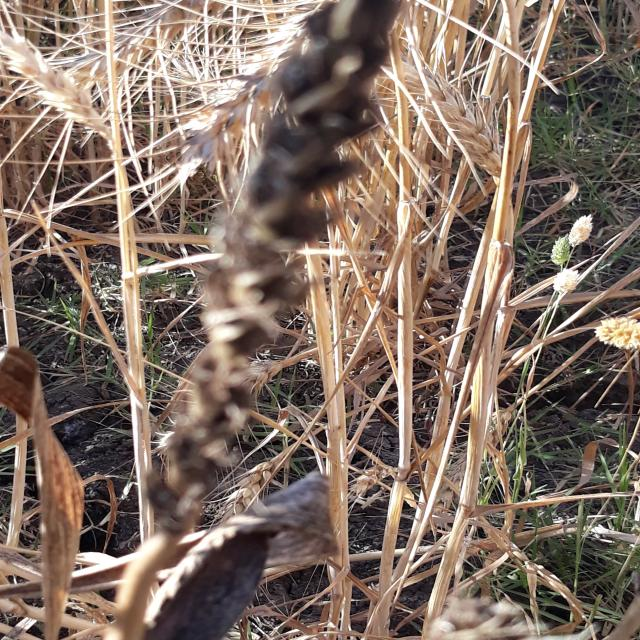loose_charred: (103, 0, 410, 640)
